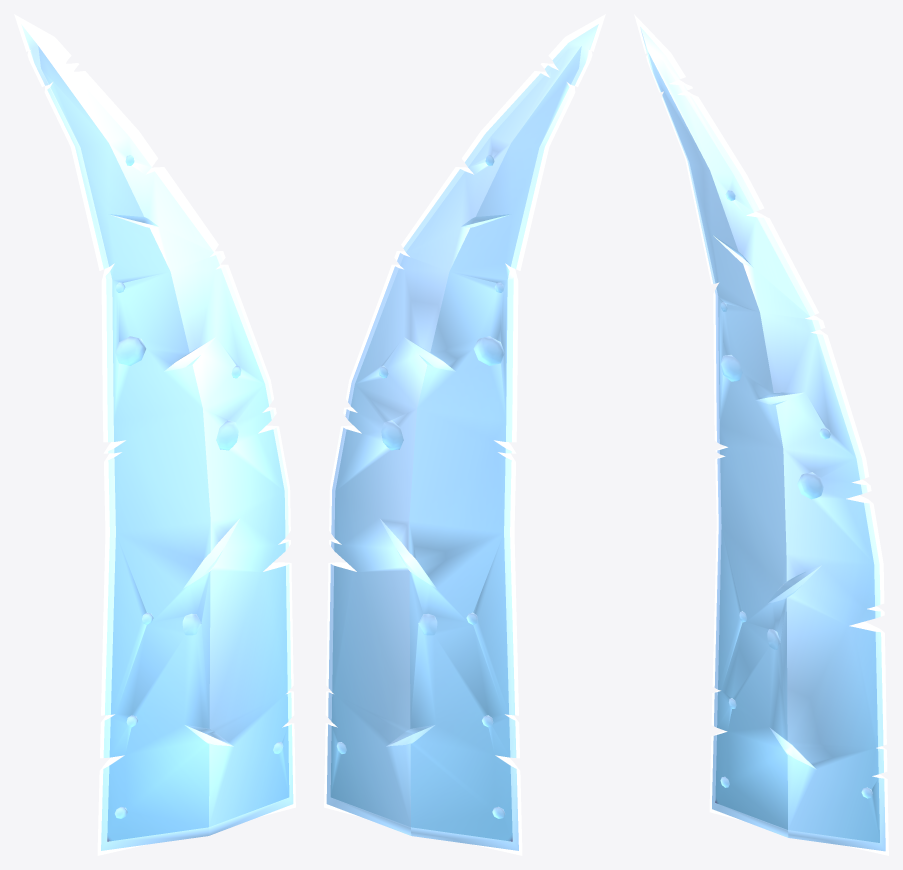
The model's file is steel_blade_bubbles_052.glb.
3 renders of one model, left to right at view 1: azimuth 30°, elevation 25°; view 2: azimuth 150°, elevation 25°; view 3: azimuth 330°, elevation 25°, orthographic. The views are drawn at different scales.
Parts seen in each view (by area): view 1: steel_blade_bubbles.052; view 2: steel_blade_bubbles.052; view 3: steel_blade_bubbles.052.
Boxes of the visible parts, x1,y1,x2,y2 form: steel_blade_bubbles.052: (14,14,295,855); steel_blade_bubbles.052: (324,14,605,855); steel_blade_bubbles.052: (634,14,888,855).
Size of the model in its own units: 4.2 by 12.29 by 0.7262.
1 material, 1 textured.
